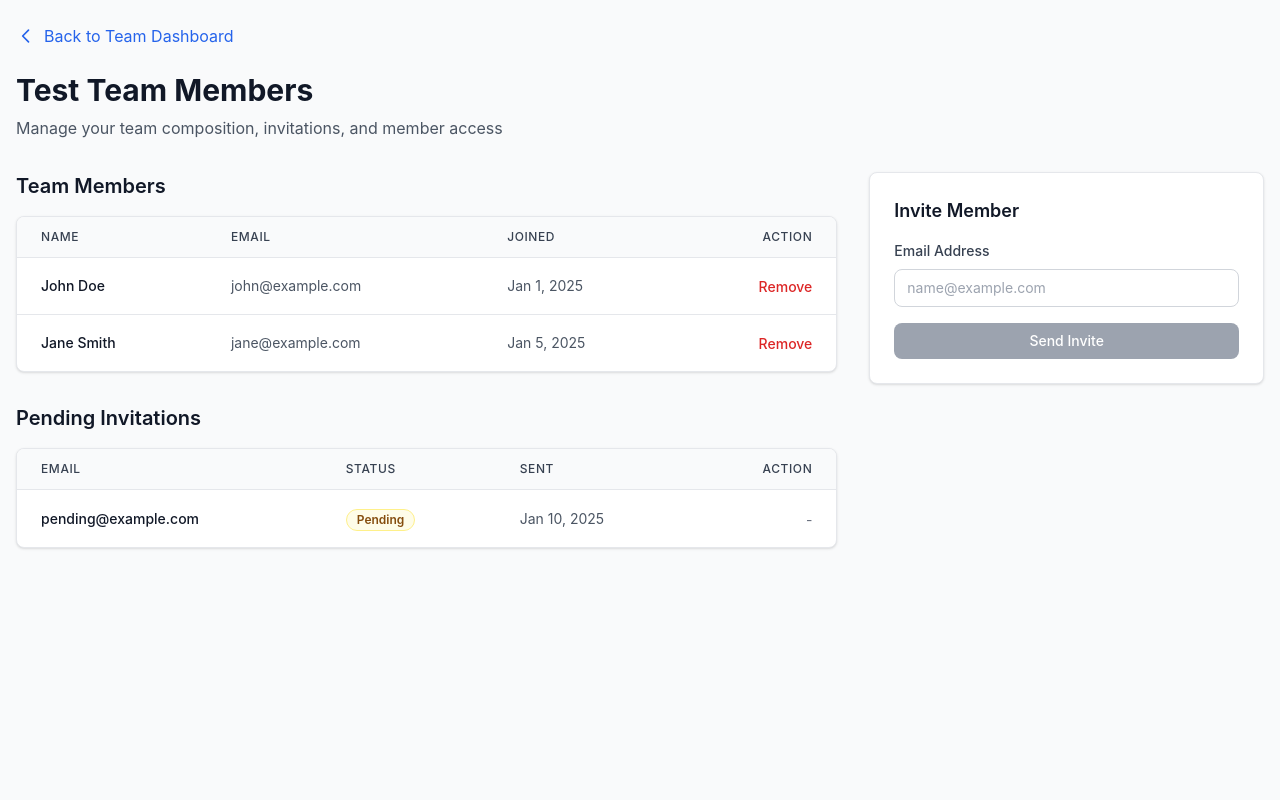
Scenario: TeamMembersView › handles member removal
The width and height of the screenshot is (1280, 800).
Expected: the text "John Doe" is shown, [41, 277, 105, 294]
Click the button labelled "Remove" in the row of "John Doe".
click(785, 287)  # box [759, 277, 812, 297]
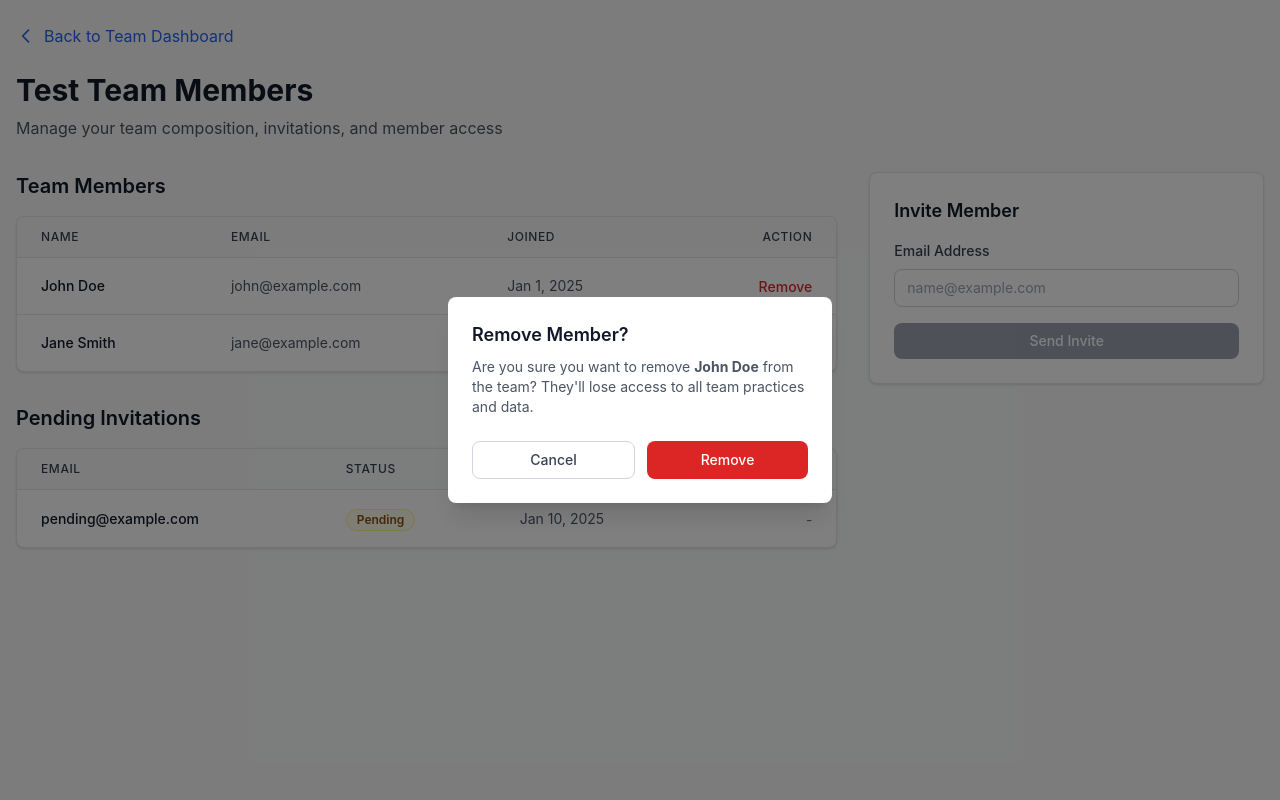
Expected: the text "Are you sure" is shown, [472, 358, 694, 375]
